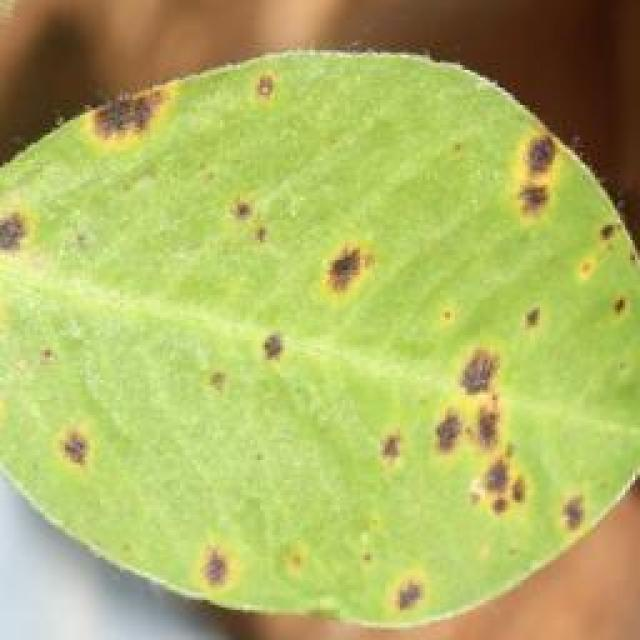Yellowish: (0, 47, 640, 607)
